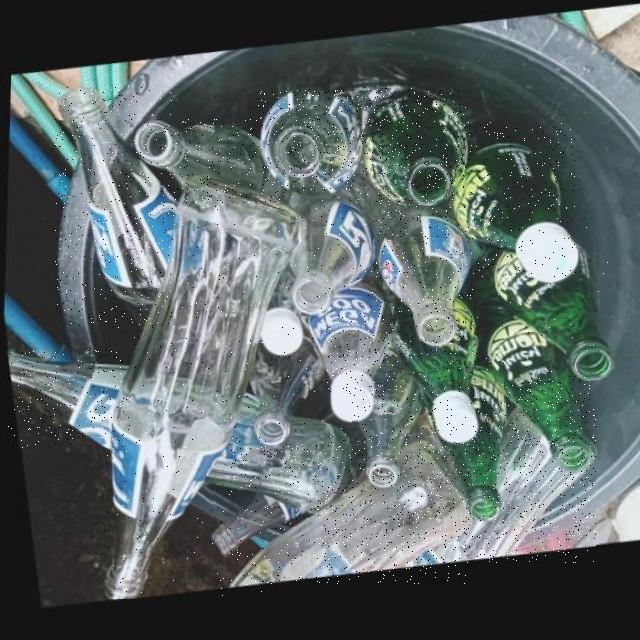glass: (105, 173, 297, 599), (228, 436, 471, 585), (460, 232, 590, 464), (408, 403, 596, 562), (55, 86, 175, 327), (471, 221, 613, 375), (442, 121, 576, 276), (206, 394, 352, 508), (372, 188, 469, 342), (306, 257, 393, 417), (418, 356, 504, 517), (391, 283, 478, 438), (131, 119, 290, 202), (286, 175, 376, 310), (361, 87, 466, 200), (6, 350, 125, 448), (246, 309, 326, 442), (257, 89, 359, 191), (358, 334, 421, 483), (214, 490, 308, 551)
